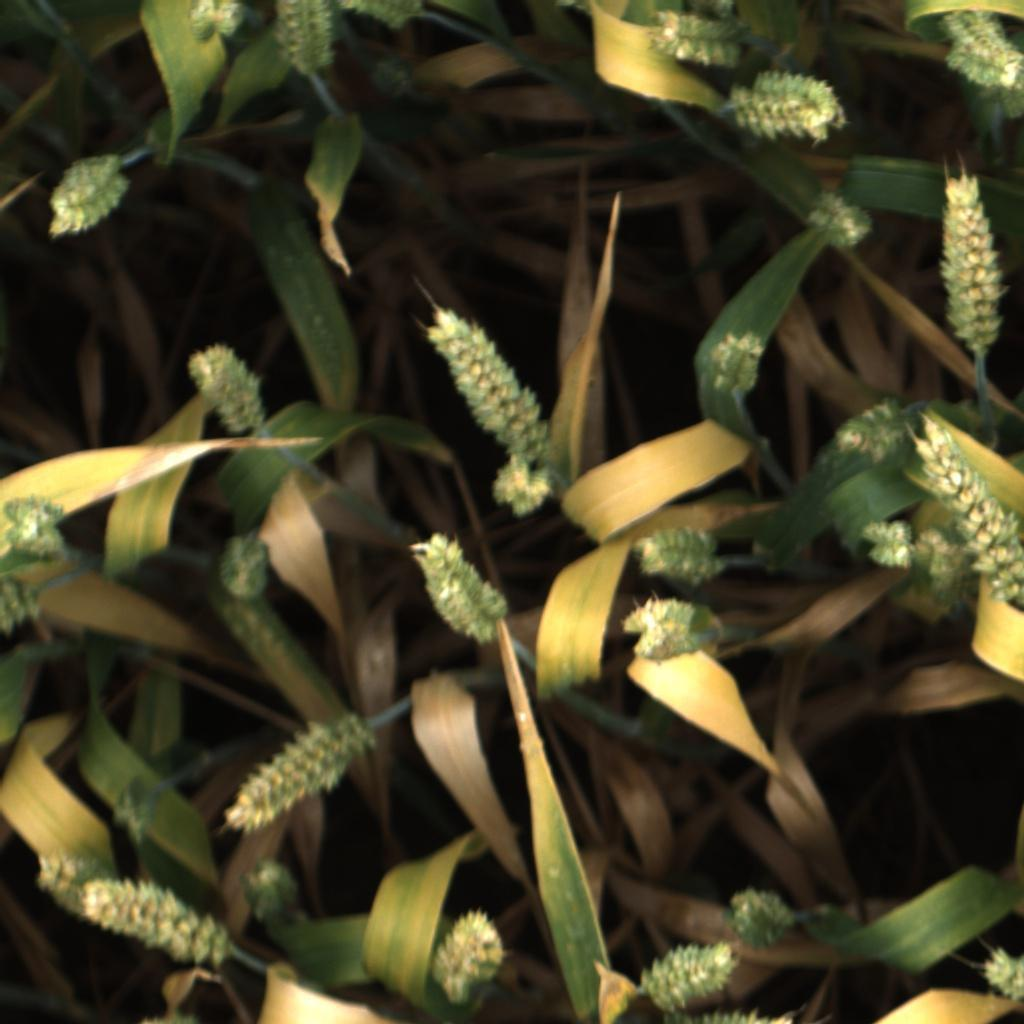0-0: (913, 412, 1024, 614), (420, 302, 553, 467), (216, 713, 381, 835), (82, 881, 241, 978), (396, 528, 517, 645), (932, 169, 1009, 349), (730, 65, 847, 145), (44, 147, 131, 244), (428, 907, 512, 1007), (183, 342, 271, 436), (629, 515, 733, 592), (639, 937, 738, 1011), (620, 594, 709, 663), (646, 9, 744, 71), (22, 834, 97, 913), (268, 0, 340, 81), (805, 183, 883, 256), (228, 851, 308, 922), (830, 397, 911, 465), (721, 882, 794, 956), (6, 493, 69, 566), (856, 511, 923, 578), (709, 331, 769, 405), (489, 454, 555, 520), (210, 532, 272, 602), (944, 39, 1024, 92), (938, 5, 1007, 64), (110, 777, 165, 837), (0, 573, 45, 641), (333, 0, 427, 32), (183, 0, 248, 44), (368, 57, 416, 101), (682, 1, 734, 21), (551, 0, 592, 20)
